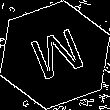M_S: (23, 23, 87, 87)
